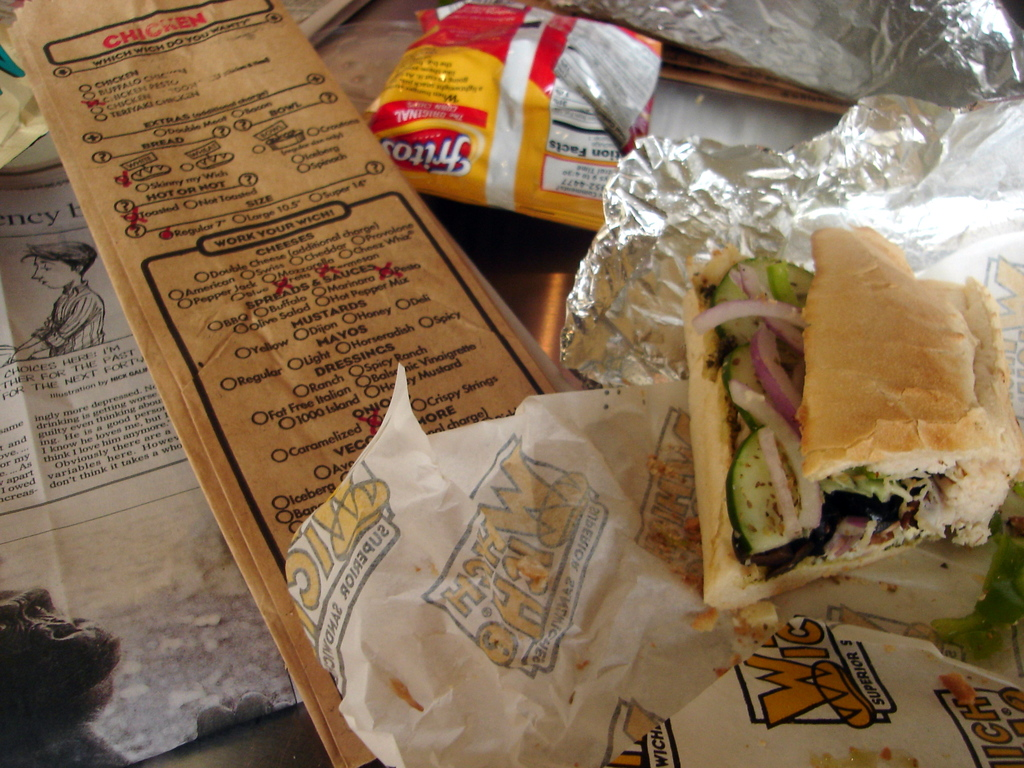sandwich: (678, 224, 1023, 609)
